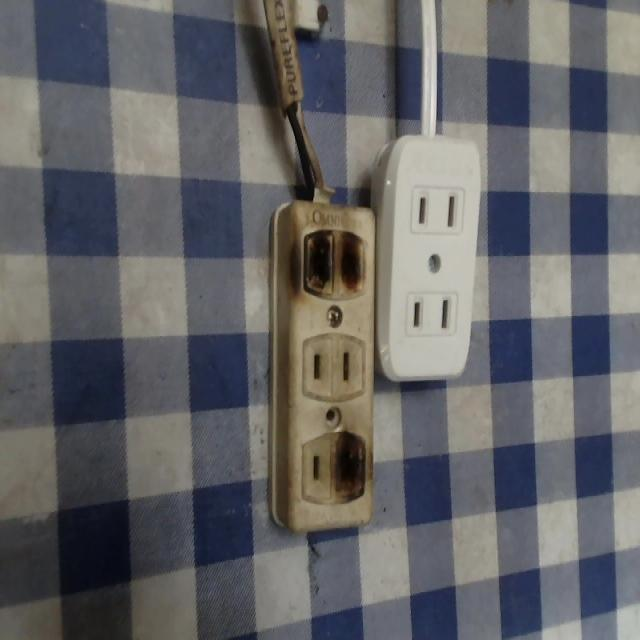-: (295, 221, 370, 303), (331, 430, 368, 502)
